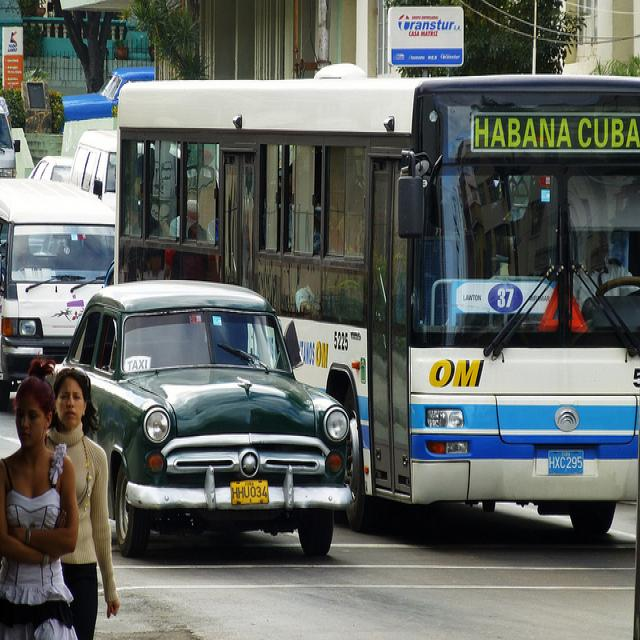Vehicle: (114, 70, 640, 546), (51, 280, 356, 560), (0, 175, 115, 413), (0, 181, 115, 409), (61, 65, 156, 120), (64, 66, 156, 118), (69, 127, 117, 224), (69, 128, 119, 210), (0, 103, 21, 177), (31, 154, 77, 182)
